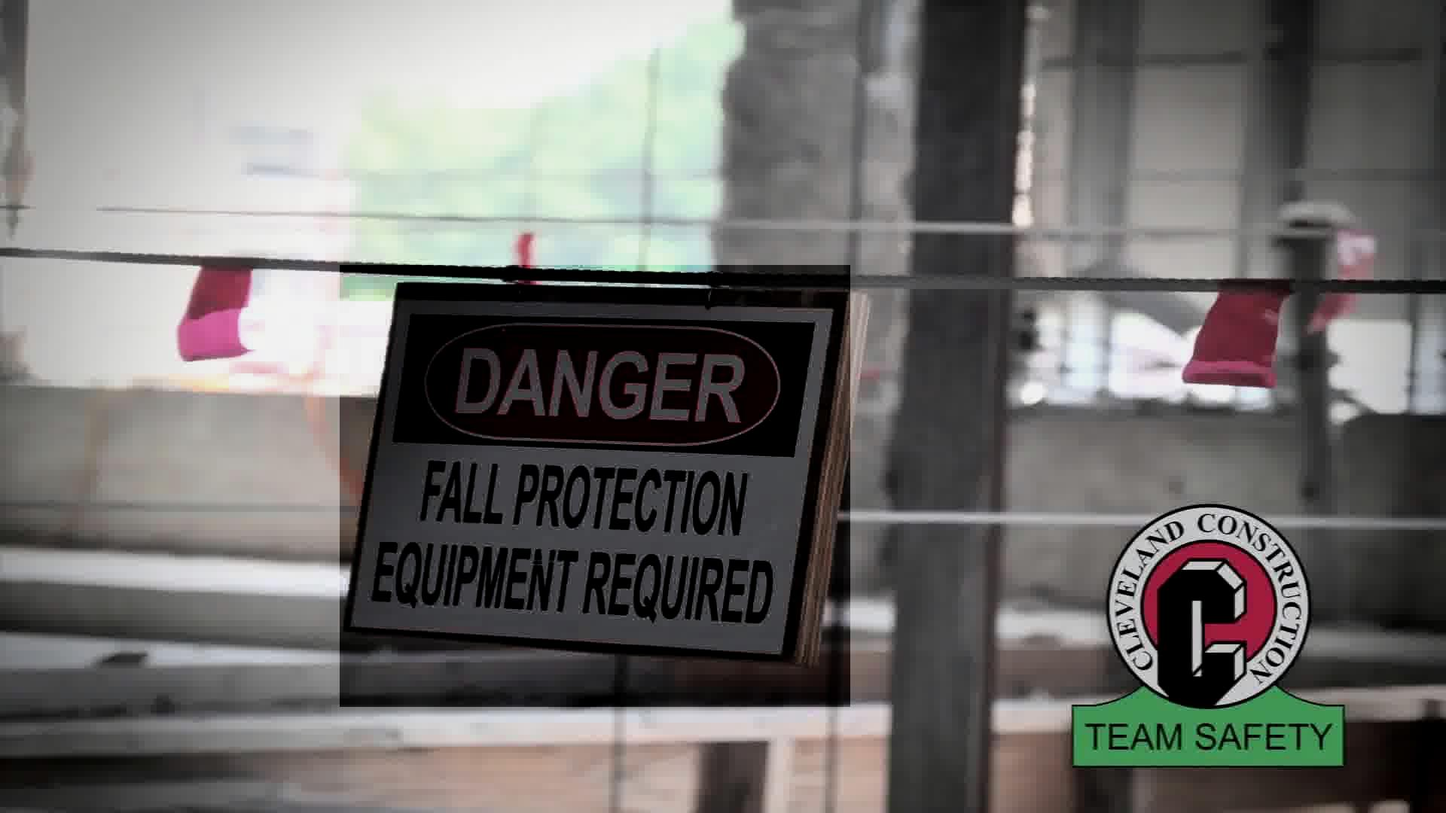safety_signage: (340, 265, 850, 707)
